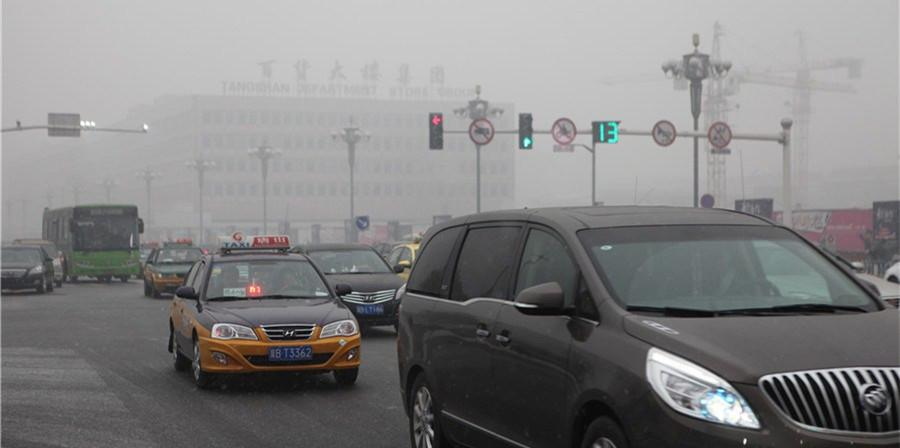bus: (39, 202, 146, 283)
car: (392, 200, 900, 445), (166, 230, 363, 391), (272, 239, 413, 339), (141, 235, 211, 299), (7, 238, 65, 287), (1, 243, 55, 294)
